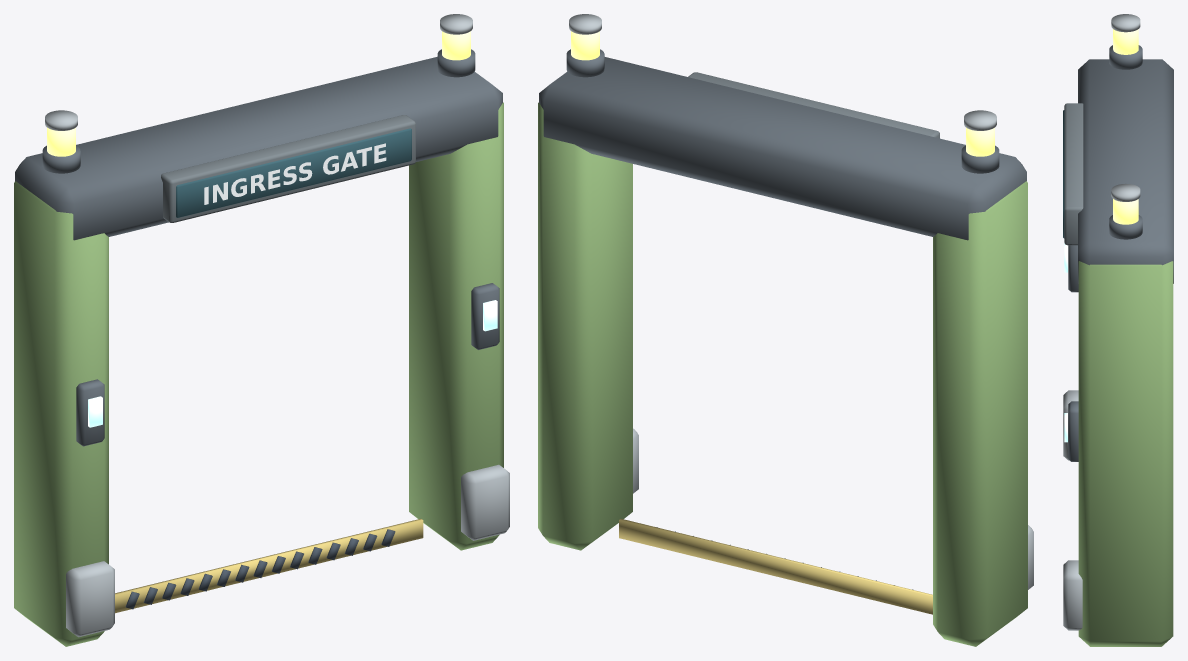
The model's file is ingress_gate_ultra.glb.
The picture shows the model from 3 angles, left to right: view 1: azimuth 30°, elevation 25°; view 2: azimuth 150°, elevation 25°; view 3: azimuth 270°, elevation 25°; orthographic projection. The views are drawn at different scales.
Visible parts, largest first — view 1: Pillar_green_legacy_0, Header_dark_legacy_4, SignPlate_glass, Footing_steel_legacy_11, ScreenMount_frame, Detail_yellow_legacy_9, AccessPanel_dark_legacy_12, Detail_black_legacy_10, TypeLabel_white, StatusLight_warn_legacy_2, Beacon_dark_legacy_1, Beacon_steel_legacy_3 (+1 smaller); view 2: Pillar_green_legacy_0, Header_dark_legacy_4, Detail_yellow_legacy_9, ScreenMount_frame, StatusLight_warn_legacy_2, Beacon_dark_legacy_1, Beacon_steel_legacy_3, Footing_steel_legacy_11; view 3: Pillar_green_legacy_0, Header_dark_legacy_4, ScreenMount_frame, Footing_steel_legacy_11, StatusLight_warn_legacy_2, Beacon_dark_legacy_1, AccessPanel_dark_legacy_12, Beacon_steel_legacy_3, SignPlate_glass, StatusLight_glow_legacy_13.
Boxes of the visible parts, x1,y1,x2,y2 form: Pillar_green_legacy_0: (14,102,503,646); Header_dark_legacy_4: (15,56,502,240); SignPlate_glass: (176,128,411,217); Footing_steel_legacy_11: (66,464,509,637); ScreenMount_frame: (161,115,415,222); Detail_yellow_legacy_9: (115,518,423,613); AccessPanel_dark_legacy_12: (76,283,499,446); Detail_black_legacy_10: (125,529,395,609); TypeLabel_white: (204,143,386,204); StatusLight_warn_legacy_2: (47,31,470,156); Beacon_dark_legacy_1: (42,49,475,173); Beacon_steel_legacy_3: (45,14,472,130); Pillar_green_legacy_0: (538,102,1027,646); Header_dark_legacy_4: (539,57,1026,240); Detail_yellow_legacy_9: (619,518,932,614); ScreenMount_frame: (688,72,939,138); StatusLight_warn_legacy_2: (571,31,994,156); Beacon_dark_legacy_1: (566,49,999,173); Beacon_steel_legacy_3: (569,14,996,130); Footing_steel_legacy_11: (633,428,1033,589); Pillar_green_legacy_0: (1078,261,1173,646); Header_dark_legacy_4: (1078,59,1173,283); ScreenMount_frame: (1064,103,1083,245); Footing_steel_legacy_11: (1063,390,1082,630); StatusLight_warn_legacy_2: (1113,29,1138,224); Beacon_dark_legacy_1: (1109,45,1142,239); AccessPanel_dark_legacy_12: (1068,245,1078,461); Beacon_steel_legacy_3: (1111,14,1140,201); SignPlate_glass: (1063,110,1064,238); StatusLight_glow_legacy_13: (1064,243,1067,442).
Bounding box in the file's own units: 3.14 × 3.41 × 0.769.
